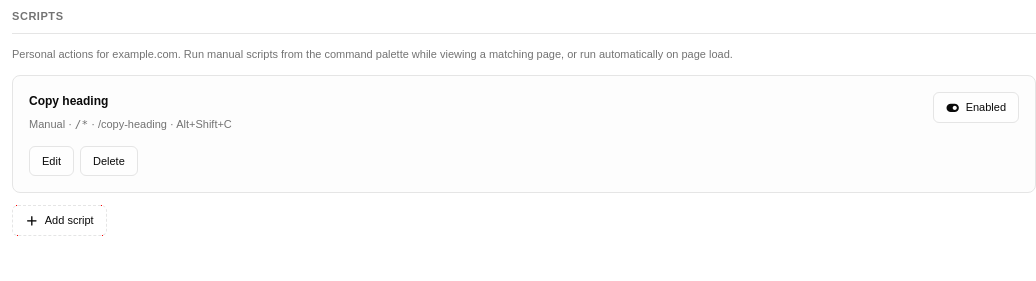
Test: shows command errors without silently changing the cached enabled state
This screenshot has width=1036, height=281.
Click the switch labelled "Enabled" at (976, 108), box 933,92 -> 1019,123
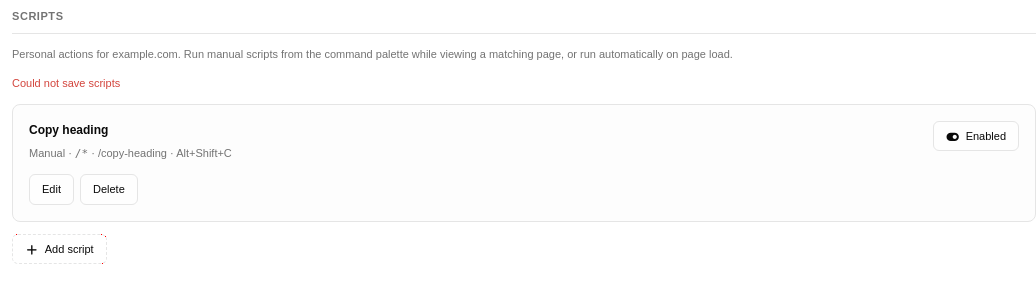
Result: the message reads "Could not save scripts" at 12,77 -> 120,89
